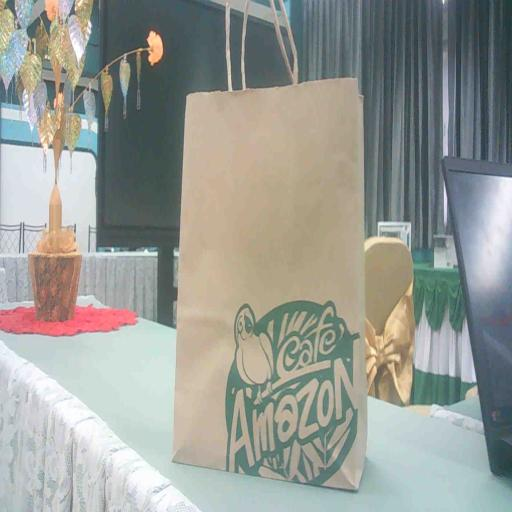bag: (164, 78, 374, 512)
